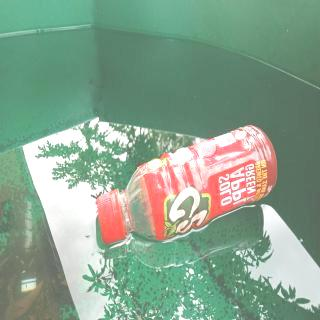bottle: (95, 121, 278, 252)
